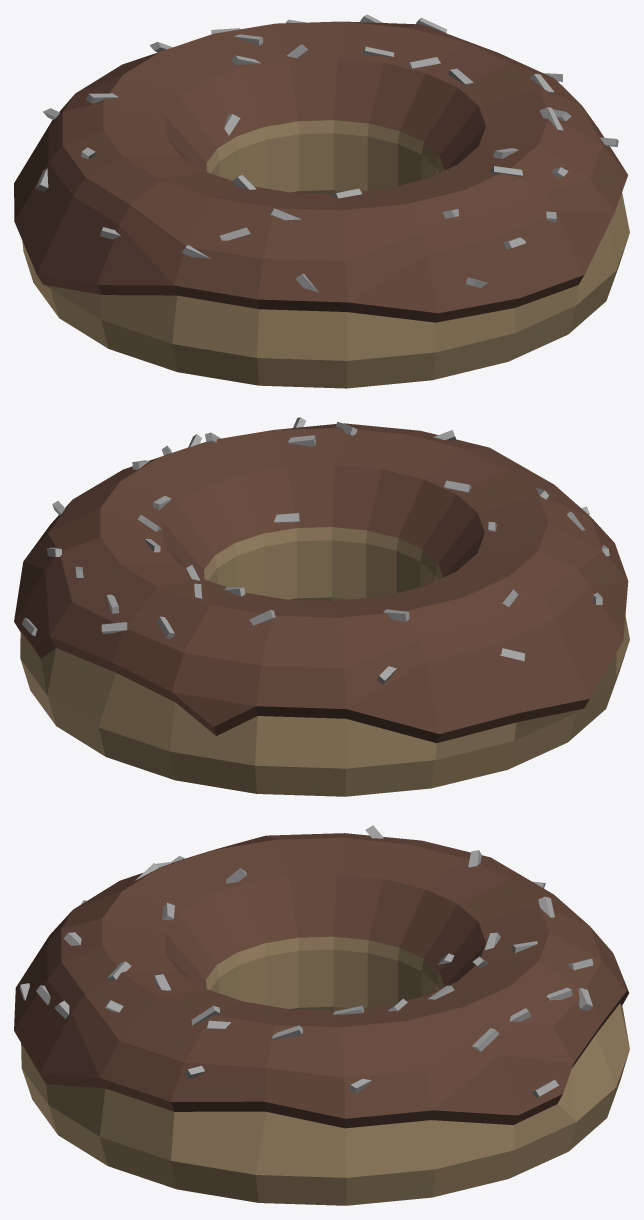
Rendered from Donut4.glb.
3 renders of one model, top to bottom at view 1: azimuth 30°, elevation 25°; view 2: azimuth 150°, elevation 25°; view 3: azimuth 270°, elevation 25°, orthographic.
Parts seen in each view (by area): view 1: DarkBrown, LightYellow, White; view 2: DarkBrown, LightYellow, White; view 3: DarkBrown, LightYellow, White.
Boxes of the visible parts, bbox=[...] form: DarkBrown: bbox=[14, 21, 627, 322]; LightYellow: bbox=[22, 120, 629, 388]; White: bbox=[35, 14, 618, 292]; DarkBrown: bbox=[14, 423, 628, 742]; LightYellow: bbox=[20, 527, 629, 796]; White: bbox=[22, 417, 609, 684]; DarkBrown: bbox=[14, 833, 628, 1128]; LightYellow: bbox=[21, 936, 629, 1205]; White: bbox=[20, 825, 593, 1097].
Bounding box in the file's own units: 0.8811 × 0.2889 × 0.8675.
